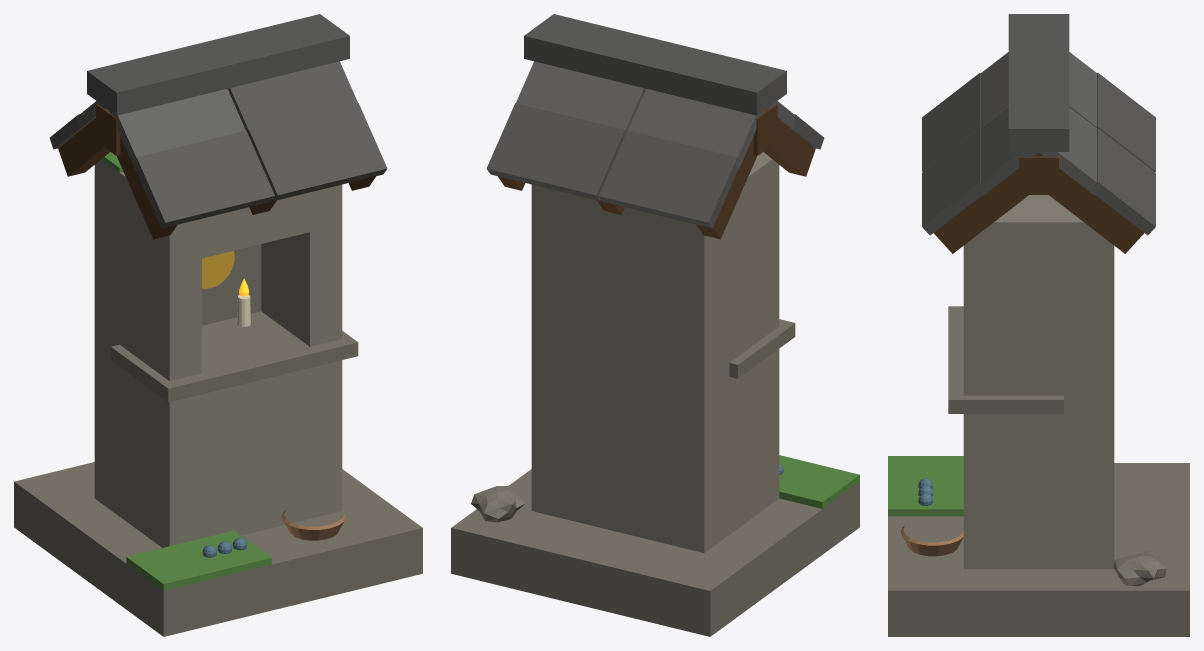
Rendered from roadside-shrine-a.glb.
3 renders of one model, left to right at view 1: azimuth 30°, elevation 25°; view 2: azimuth 150°, elevation 25°; view 3: azimuth 270°, elevation 25°, orthographic.
Visible parts, largest first — view 1: Body_Stone, Body_StoneDark, Body_SlateDark, Body_Slate, Body_Moss, Body_WoodDark, Body_Gilt, Body_Clay; view 2: Body_Stone, Body_StoneDark, Body_SlateDark, Body_Slate, Body_WoodDark, Body_Moss; view 3: Body_Stone, Body_StoneDark, Body_SlateDark, Body_WoodDark, Body_Slate, Body_Moss, Body_Clay.
Boxes of the visible parts, box(x1,y1,x2,y2) form: Body_Stone: box(94, 159, 342, 547); Body_StoneDark: box(14, 244, 422, 636); Body_SlateDark: box(49, 14, 387, 228); Body_Slate: box(76, 88, 245, 168); Body_Moss: box(100, 152, 271, 590); Body_WoodDark: box(58, 90, 375, 239); Body_Gilt: box(202, 251, 234, 288); Body_Clay: box(281, 510, 346, 540); Body_Stone: box(531, 152, 779, 552); Body_StoneDark: box(451, 319, 859, 636); Body_SlateDark: box(486, 14, 824, 228); Body_Slate: box(516, 61, 795, 168); Body_WoodDark: box(498, 90, 815, 239); Body_Moss: box(779, 455, 859, 508); Body_Stone: box(963, 195, 1114, 569); Body_StoneDark: box(888, 306, 1189, 636); Body_SlateDark: box(922, 14, 1155, 235); Body_WoodDark: box(934, 153, 1143, 253); Body_Slate: box(980, 52, 1102, 195); Body_Moss: box(888, 456, 963, 516); Body_Clay: box(900, 525, 963, 556).
Bounding box in the file's own units: 1.2 × 2.2 × 1.2.
